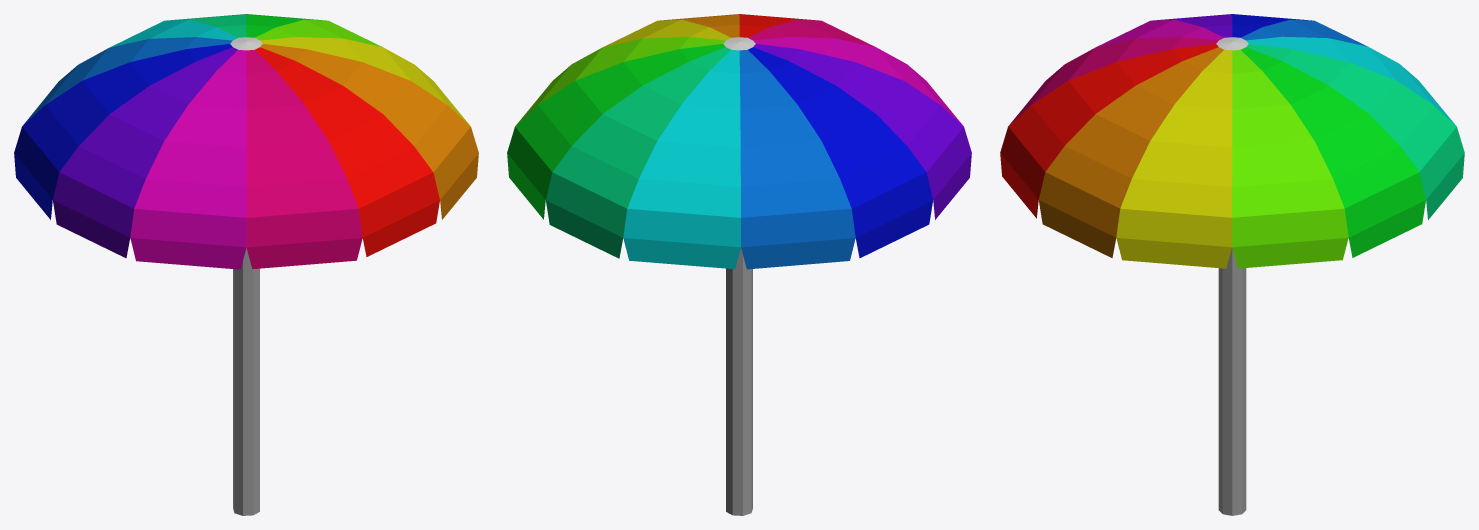
Rendered from Umbrella_9.fbx.
3 renders of one model, left to right at view 1: azimuth 30°, elevation 25°; view 2: azimuth 150°, elevation 25°; view 3: azimuth 270°, elevation 25°, orthographic.
Parts seen in each view (by area): view 1: Top, Base; view 2: Top, Base; view 3: Top, Base.
Part boxes in pixels (x1,y1,x2,y2): Top: (14, 14, 478, 269); Base: (233, 247, 259, 515); Top: (507, 14, 971, 269); Base: (726, 248, 752, 515); Top: (1000, 14, 1464, 268); Base: (1218, 248, 1246, 515).
Size of the model in its own units: 173 by 200 by 180.
